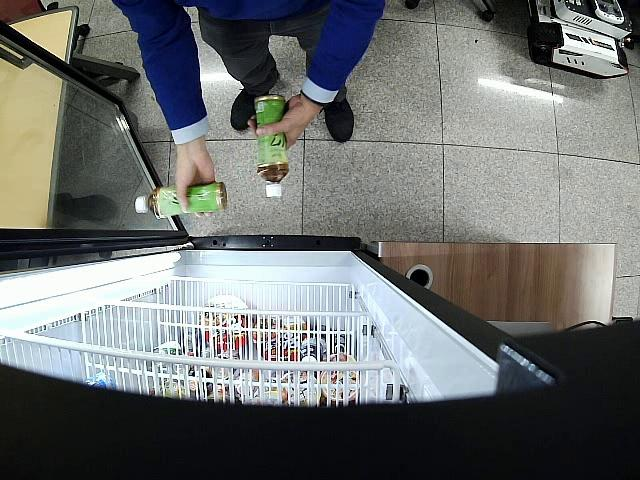00_hand: (254, 96, 321, 148), (176, 141, 216, 217)
19_17cha: (136, 182, 226, 220), (255, 96, 288, 197)
